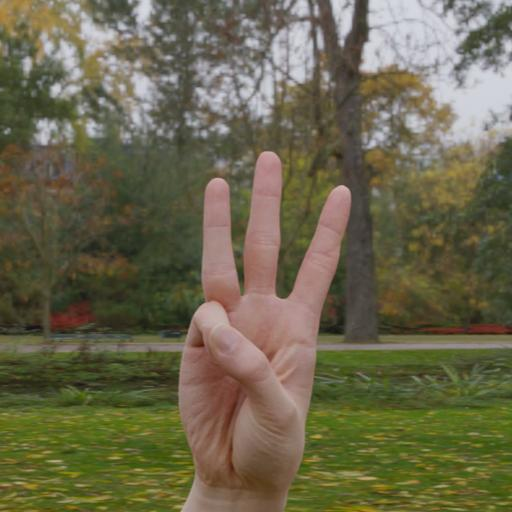W: (139, 126, 451, 512)
